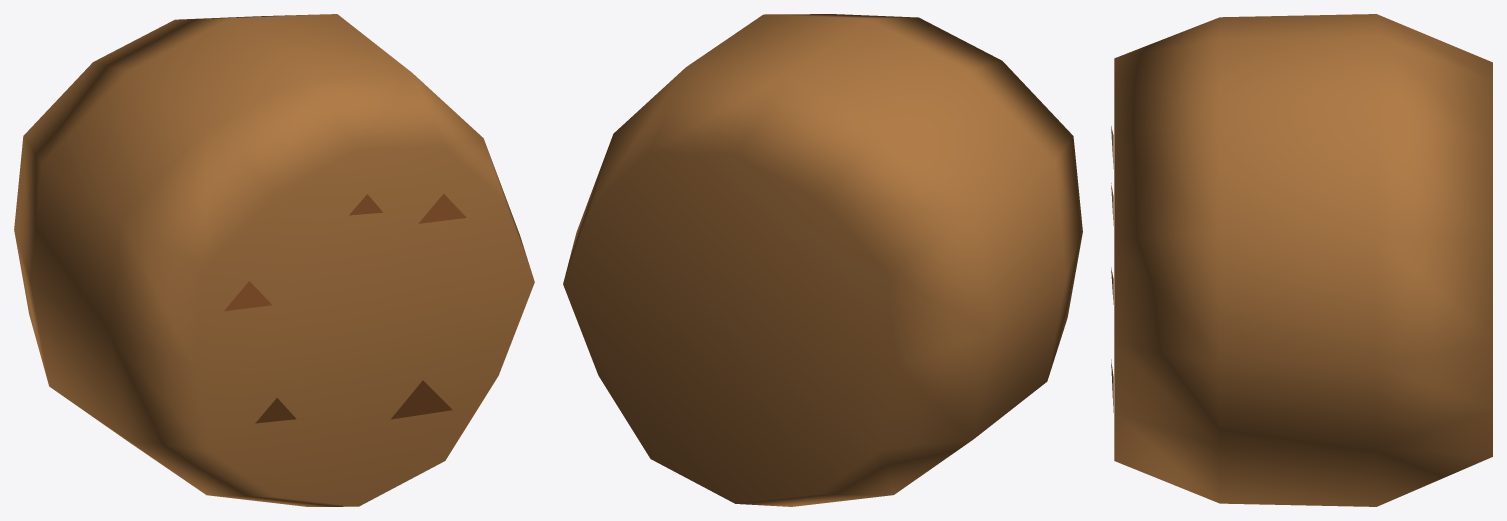
Rendered from snack_crumb.glb.
3 views of the same model, side by side, from view 1: azimuth 30°, elevation 25°; view 2: azimuth 150°, elevation 25°; view 3: azimuth 270°, elevation 25° (orthographic). The views are drawn at different scales.
Visible parts, largest first — view 1: Broken crust; view 2: Broken crust; view 3: Broken crust.
Boxes of the visible parts, x1,y1,x2,y2 form: Broken crust: (14, 14, 534, 506); Broken crust: (563, 14, 1082, 506); Broken crust: (1111, 14, 1492, 506).
Size of the model in its own units: 0.6 by 0.6 by 0.463.
